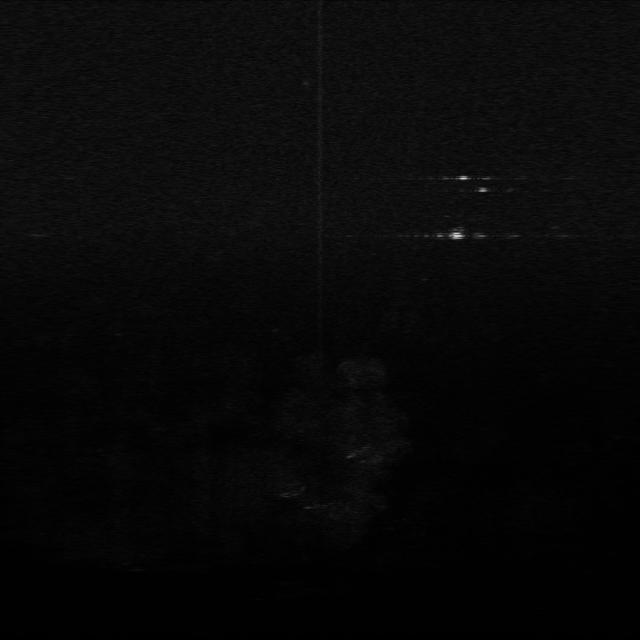rov: (443, 225, 471, 243)
